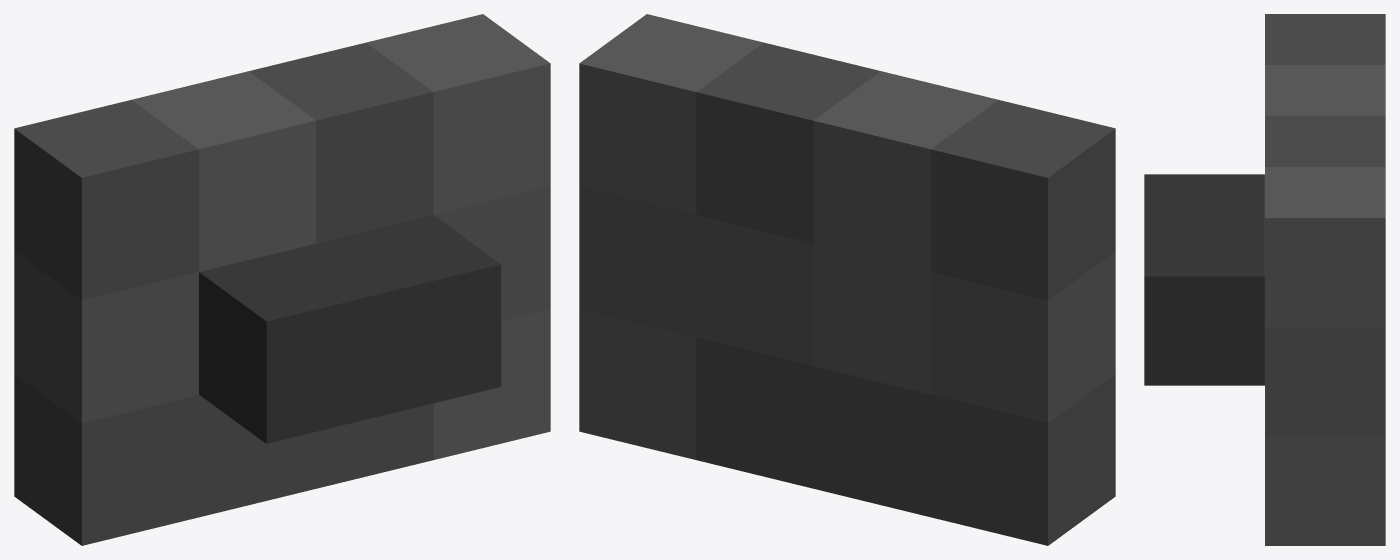
The model's file is Button_Wall_Big_Gray.glb.
The picture shows the model from 3 angles, left to right: view 1: azimuth 30°, elevation 25°; view 2: azimuth 150°, elevation 25°; view 3: azimuth 270°, elevation 25°; orthographic projection. The views are drawn at different scales.
Visible parts, largest first — view 1: Button_Wall_Big_Gray; view 2: Button_Wall_Big_Gray; view 3: Button_Wall_Big_Gray.
Part boxes in pixels (x1,y1,x2,y2): Button_Wall_Big_Gray: (14, 14, 550, 545); Button_Wall_Big_Gray: (579, 14, 1115, 545); Button_Wall_Big_Gray: (1144, 14, 1385, 545).
Size of the model in its own units: 0.4 by 0.3 by 0.2.
1 material, 1 textured.
